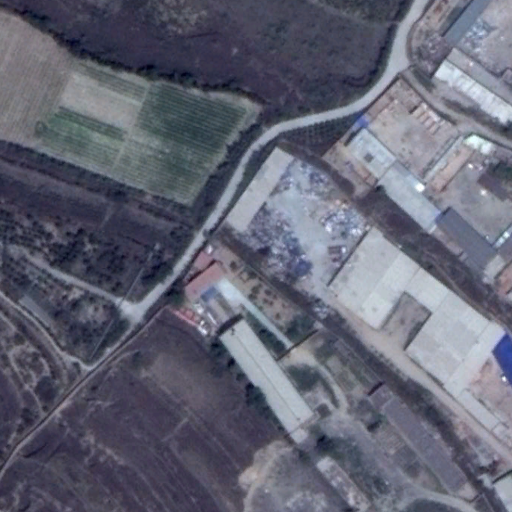msw: (243, 158, 367, 289)
